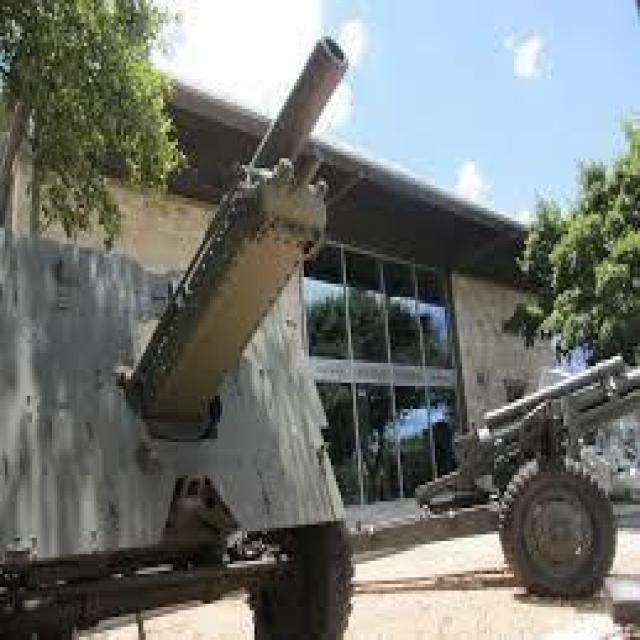MIL_MBT: (2, 96, 353, 620)
